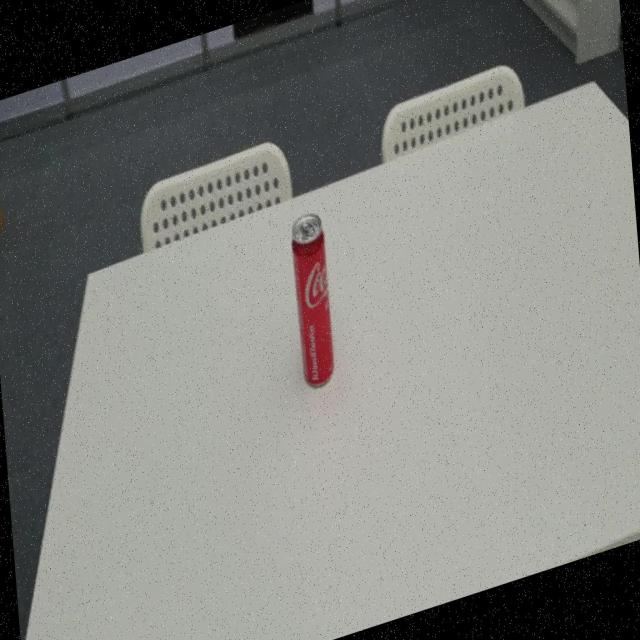coca-cola: (288, 207, 337, 398)
